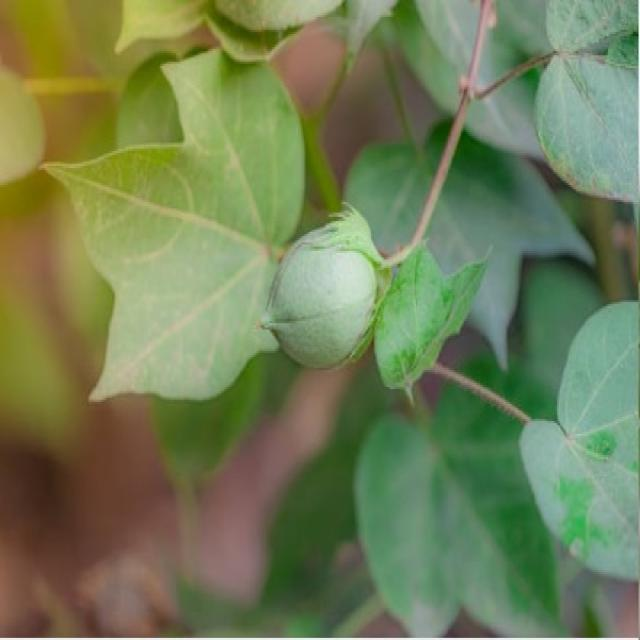Early Boll: (263, 208, 388, 376)
